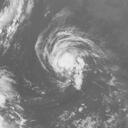cyclone: (41, 30, 100, 90)
